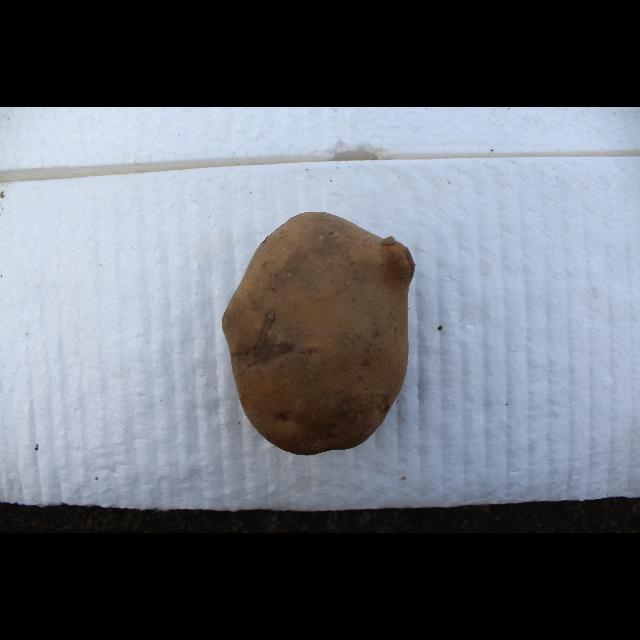Diseased-fungal potato: (220, 204, 416, 456)
